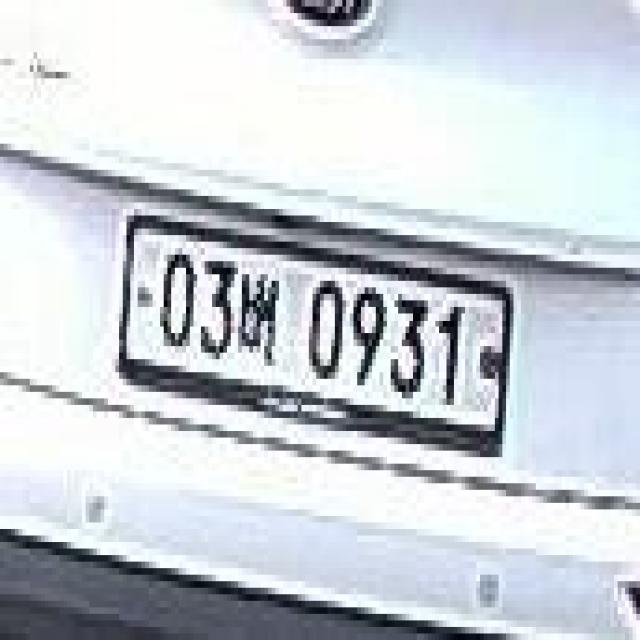illegal_plate: (116, 209, 516, 474)
